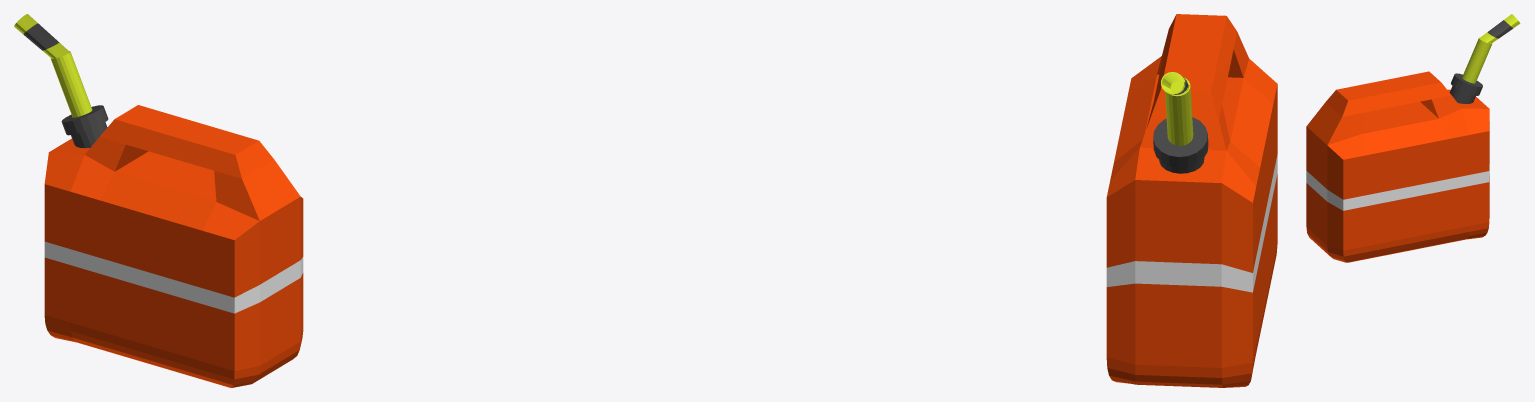
File: foam_fire.glb
3 views of the same model, side by side, from view 1: azimuth 30°, elevation 25°; view 2: azimuth 150°, elevation 25°; view 3: azimuth 270°, elevation 25° (orthographic). The views are drawn at different scales.
Visible parts, largest first — view 1: Box002, Cylinder004, Cylinder005; view 2: Box002, Cylinder004, Cylinder005; view 3: Box002, Cylinder004, Cylinder005, Cylinder006.
Part boxes in pixels (x1,y1,x2,y2): Box002: (44,105,303,387); Cylinder004: (14,14,92,117); Cylinder005: (61,105,108,135); Box002: (1106,14,1277,387); Cylinder004: (1161,72,1193,145); Cylinder005: (1153,117,1208,167); Box002: (1306,71,1489,262); Cylinder004: (1462,14,1520,83); Cylinder005: (1451,73,1482,95); Cylinder006: (1449,86,1475,103).
Size of the model in its own units: 1177395 by 607186 by 588420.
